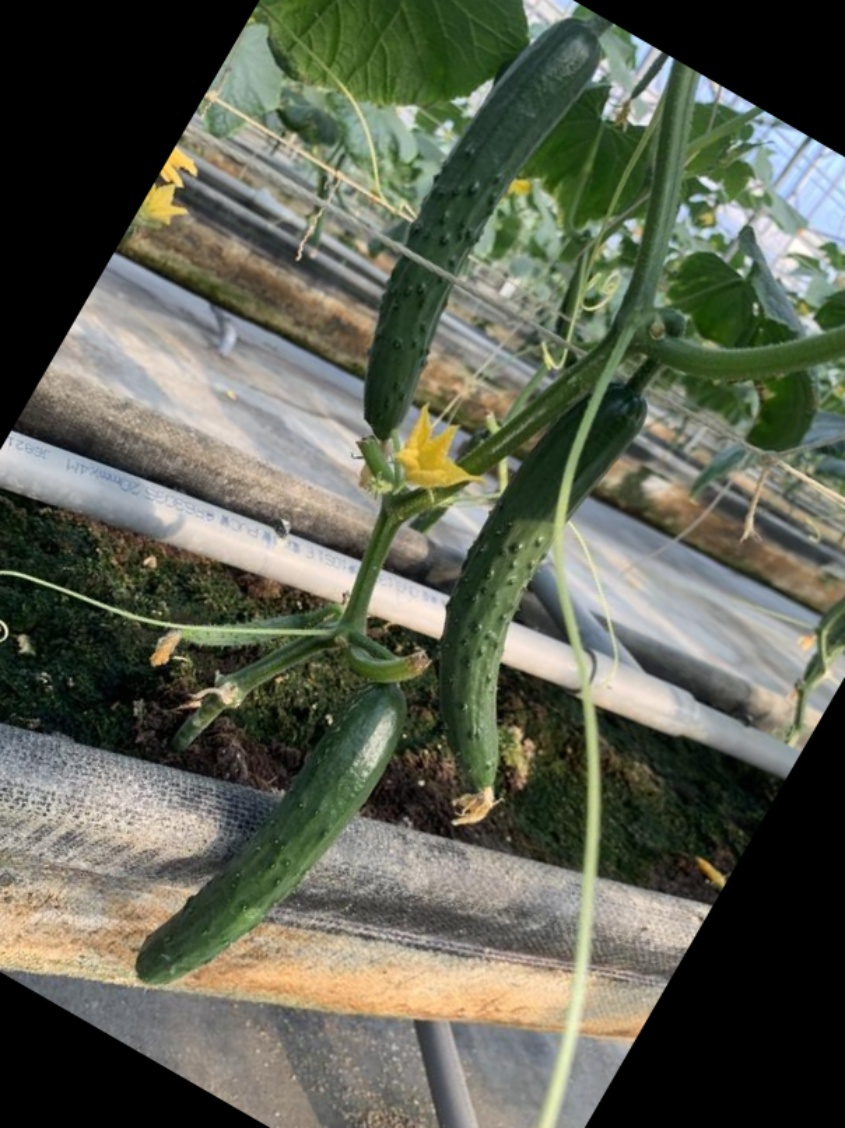mature: (346, 18, 613, 449), (424, 387, 639, 832)
